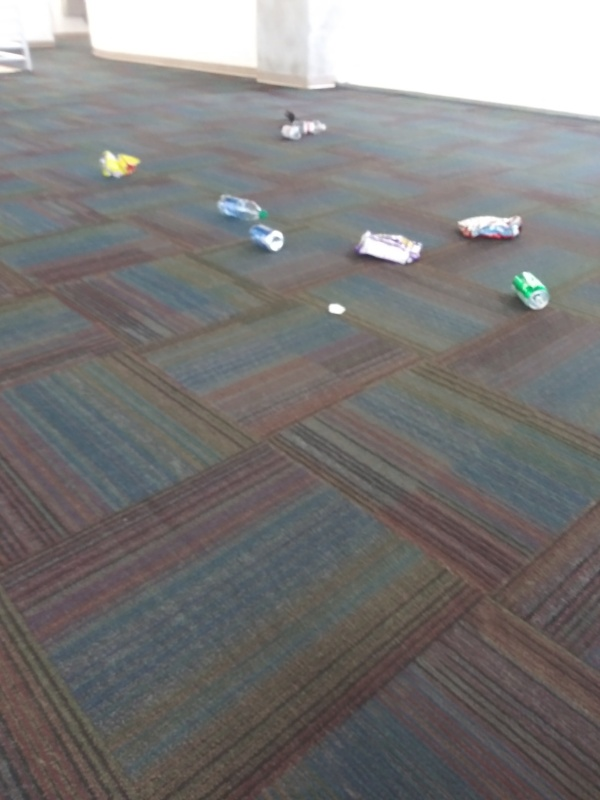bag: (351, 228, 428, 268), (452, 212, 529, 244), (96, 148, 144, 181)
bottle: (210, 192, 273, 223), (291, 117, 329, 139)
can: (505, 270, 555, 314), (242, 222, 287, 256), (276, 122, 307, 143)
